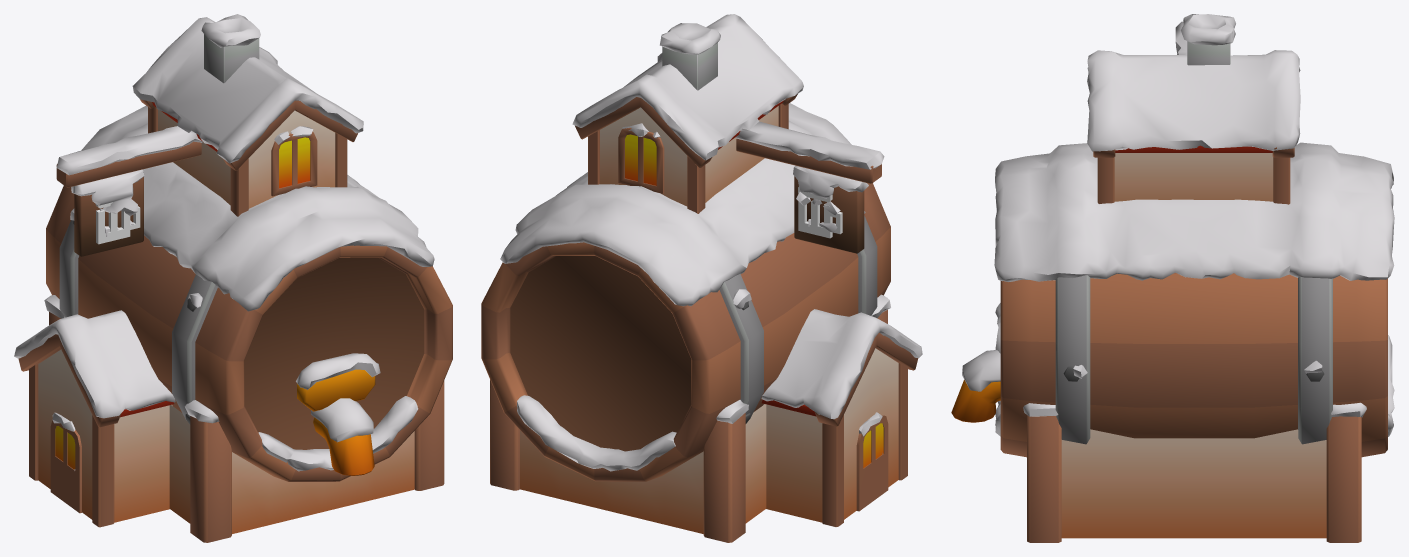
File: BeerHouseSnowy_1.fbx
3 renders of one model, left to right at view 1: azimuth 30°, elevation 25°; view 2: azimuth 150°, elevation 25°; view 3: azimuth 270°, elevation 25°, orthographic. The views are drawn at different scales.
Parts seen in each view (by area): view 1: BeerHouseSnowy_1; view 2: BeerHouseSnowy_1; view 3: BeerHouseSnowy_1.
Part boxes in pixels (left/top/right/bottom): BeerHouseSnowy_1: left=14, top=14, right=452, bottom=542; BeerHouseSnowy_1: left=481, top=14, right=922, bottom=542; BeerHouseSnowy_1: left=951, top=14, right=1394, bottom=542.
Bounding box in the file's own units: 344 × 431 × 380.
